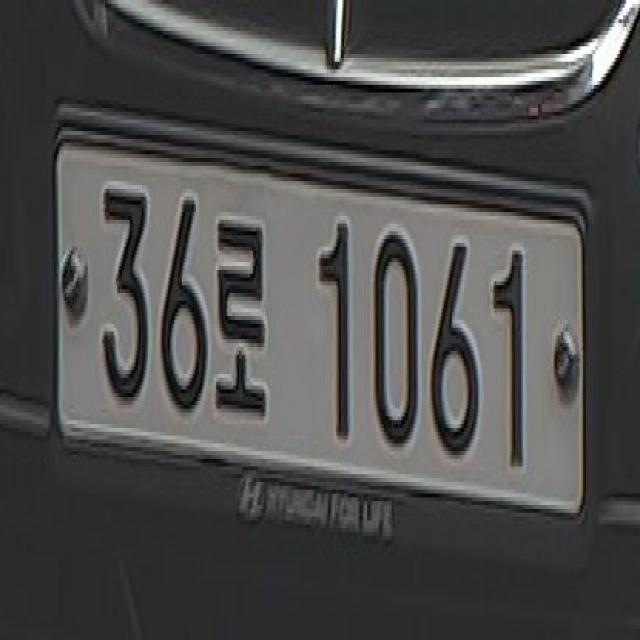0: (370, 216, 420, 451)
1: (313, 208, 353, 440), (492, 235, 526, 474)
3: (92, 177, 158, 409)
6: (160, 189, 210, 420), (429, 239, 481, 459)
license_plate: (51, 112, 589, 528)
lo: (210, 208, 268, 420)
